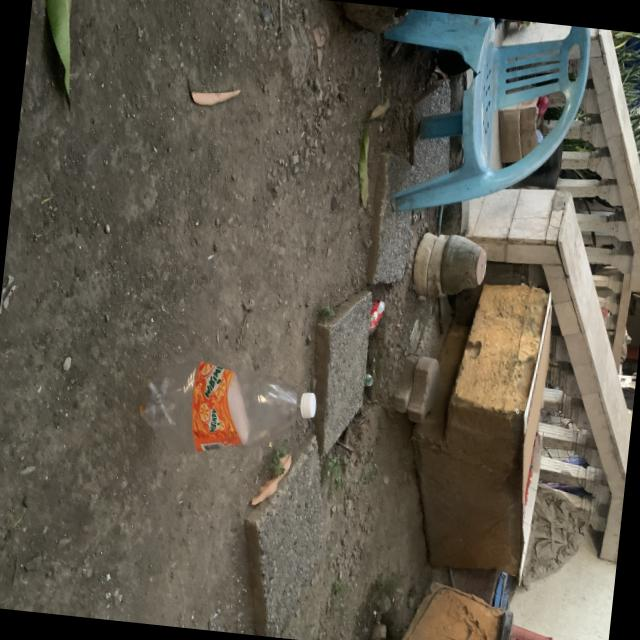Bottle: (139, 360, 315, 451)
